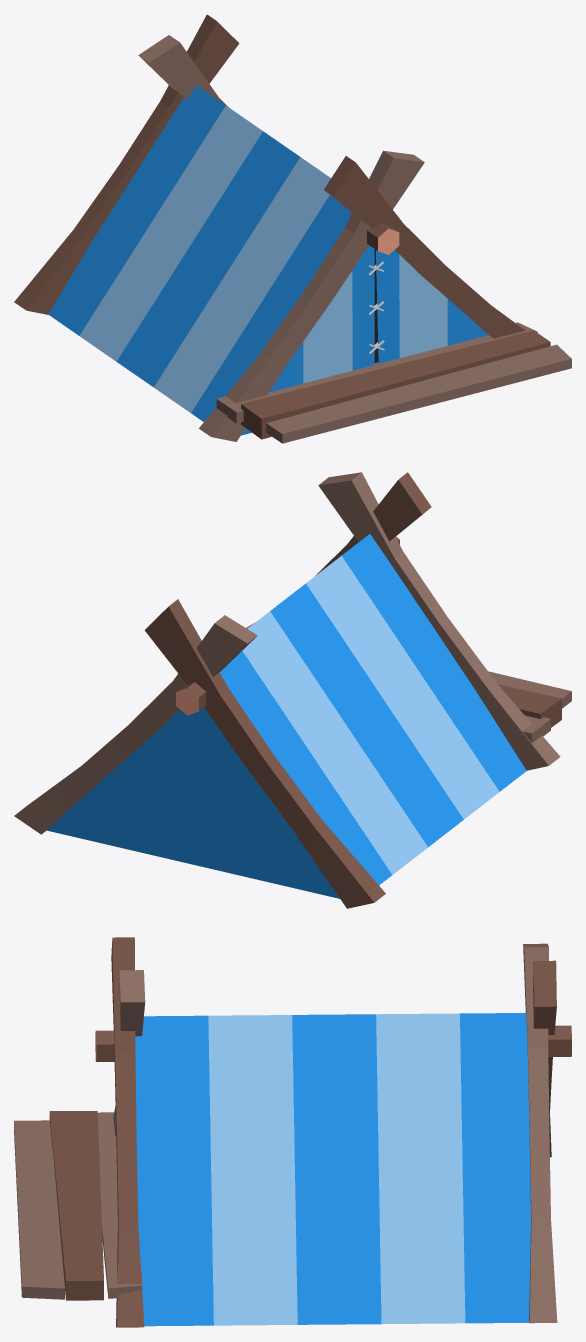
File: building_002.fbx
The picture shows the model from 3 angles, top to bottom: view 1: azimuth 30°, elevation 25°; view 2: azimuth 150°, elevation 25°; view 3: azimuth 270°, elevation 25°; orthographic projection. The views are drawn at different scales.
Parts seen in each view (by area): view 1: building.002; view 2: building.002; view 3: building.002.
Part boxes in pixels (left/top/right/bottom): building.002: left=14, top=14, right=571, bottom=443; building.002: left=14, top=472, right=571, bottom=908; building.002: left=14, top=937, right=571, bottom=1327.
Size of the model in its own units: 643 by 450 by 752.
1 material, 1 textured.
